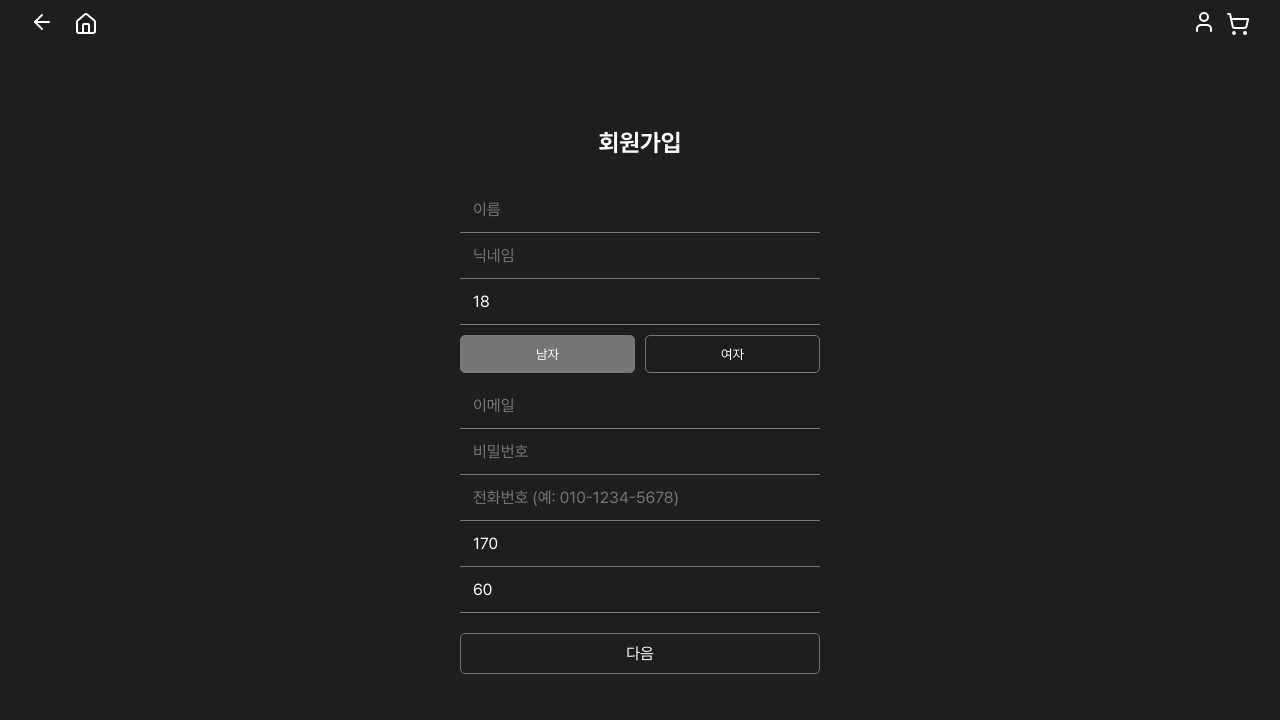
Test: 회원가입 페이지 테스트 › 이름 입력 시 닉네임이 자동으로 설정되어야 한다
Type "홍길동" into the field named "name" at [640, 210], box [460, 187, 820, 233]
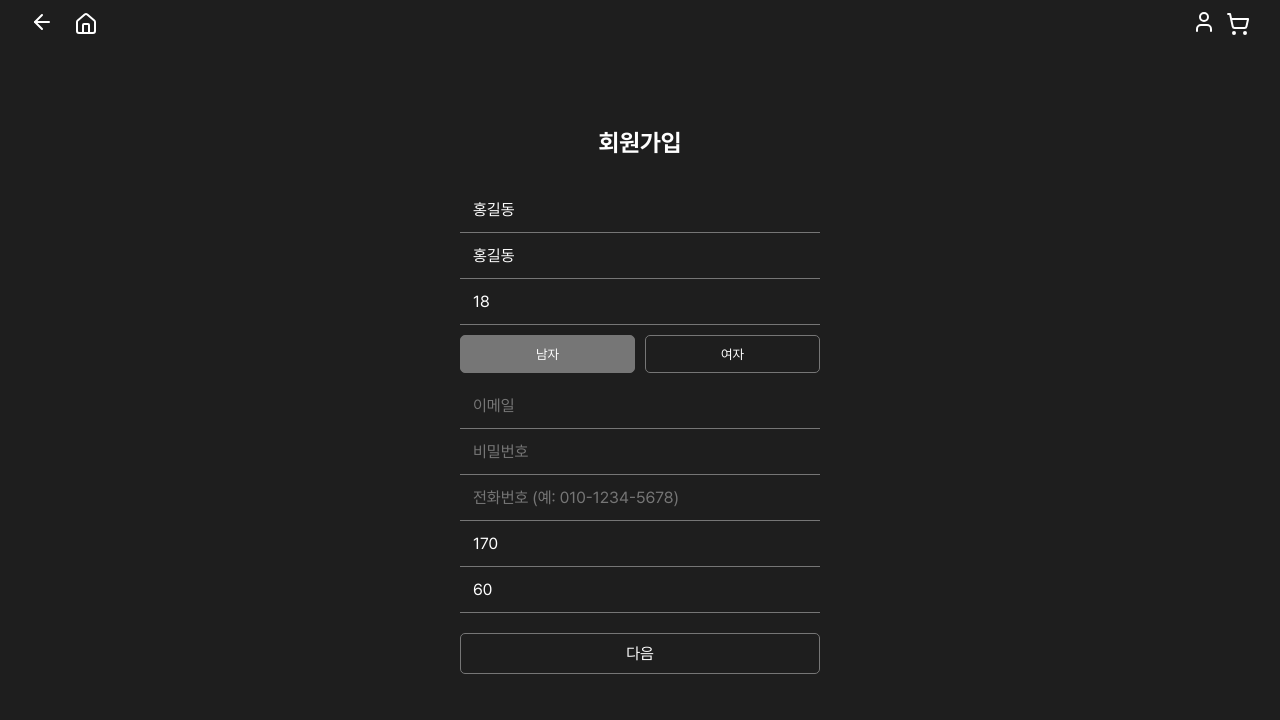
Check: the 2nd field named "nickName" holds "홍길동", box [460, 233, 820, 279]
